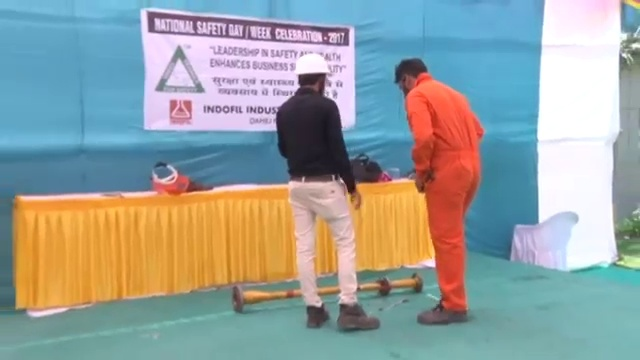helmet: (291, 52, 333, 77)
helmet_off: (392, 56, 428, 96)
helmet_on: (290, 50, 333, 96)
person: (275, 52, 380, 331), (391, 56, 483, 323)
